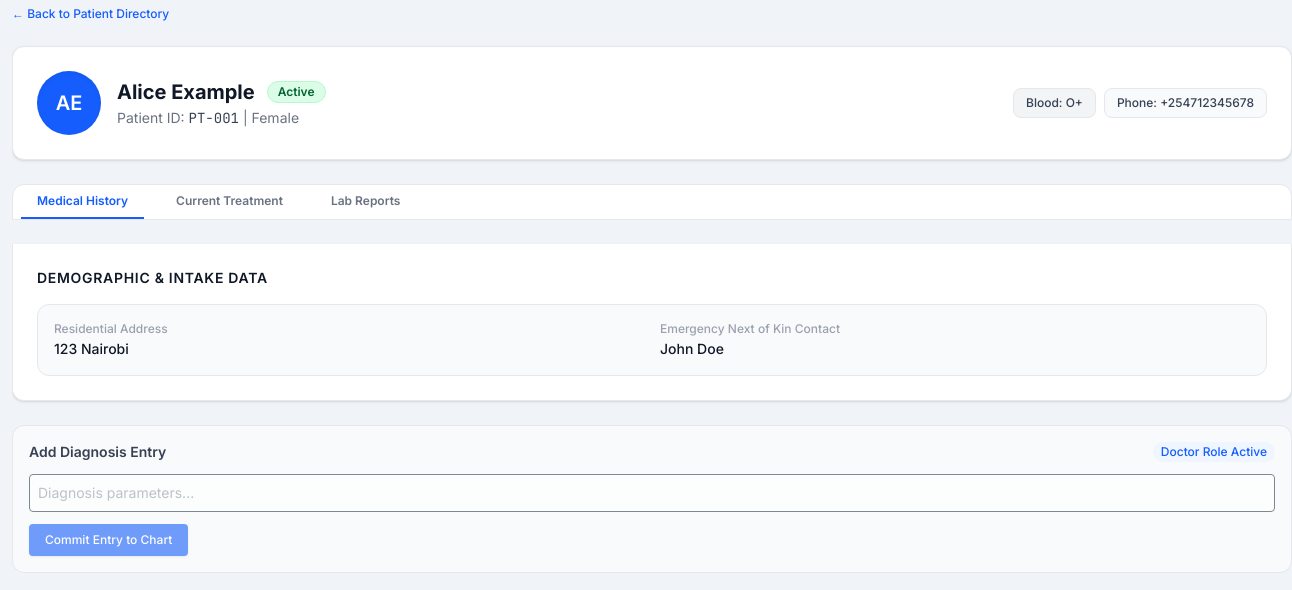
PatientDetailedView › switches tabs and updates content
This screenshot has width=1292, height=590.
What coordinates should you click on to do the following:
click the button "Current Treatment"
I would click on:
 (230, 206)
Its box is [160, 193, 299, 219].
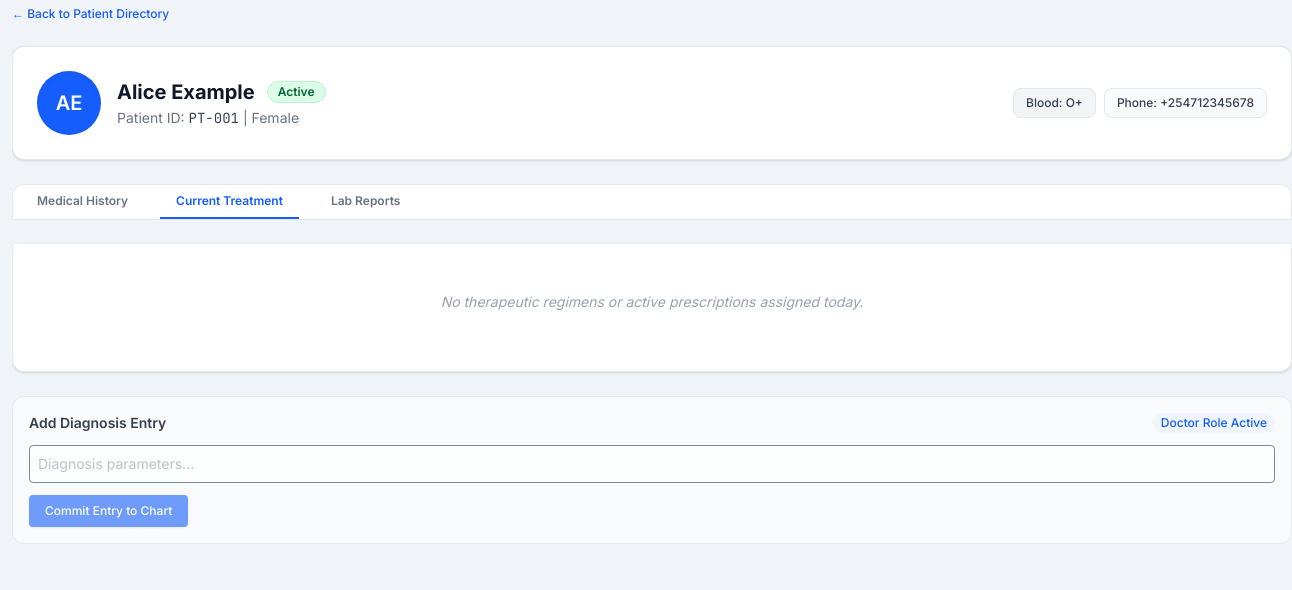
Expected: the text "No therapeutic regimens" is shown, [441, 293, 863, 310]
What coordinates should you click on to do the following:
click the button "Lab Reports"
I would click on:
 (366, 206)
Its box is [315, 193, 416, 219].
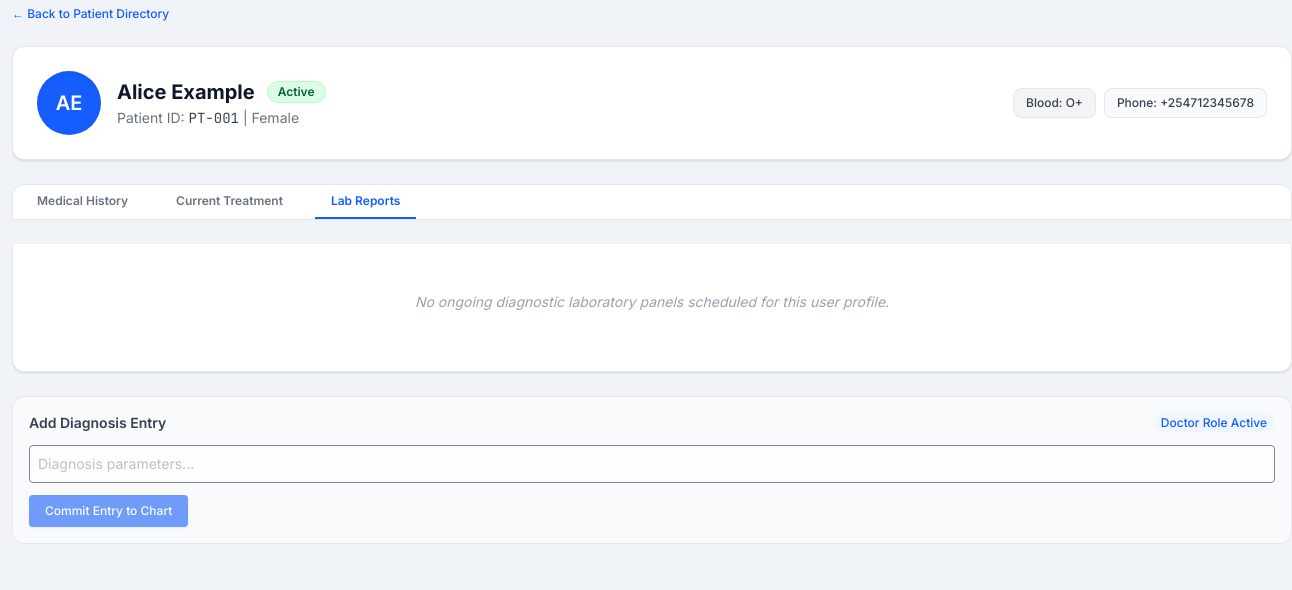
Expected: the text "No ongoing diagnostic laboratory panels" is shown, [415, 293, 889, 310]
